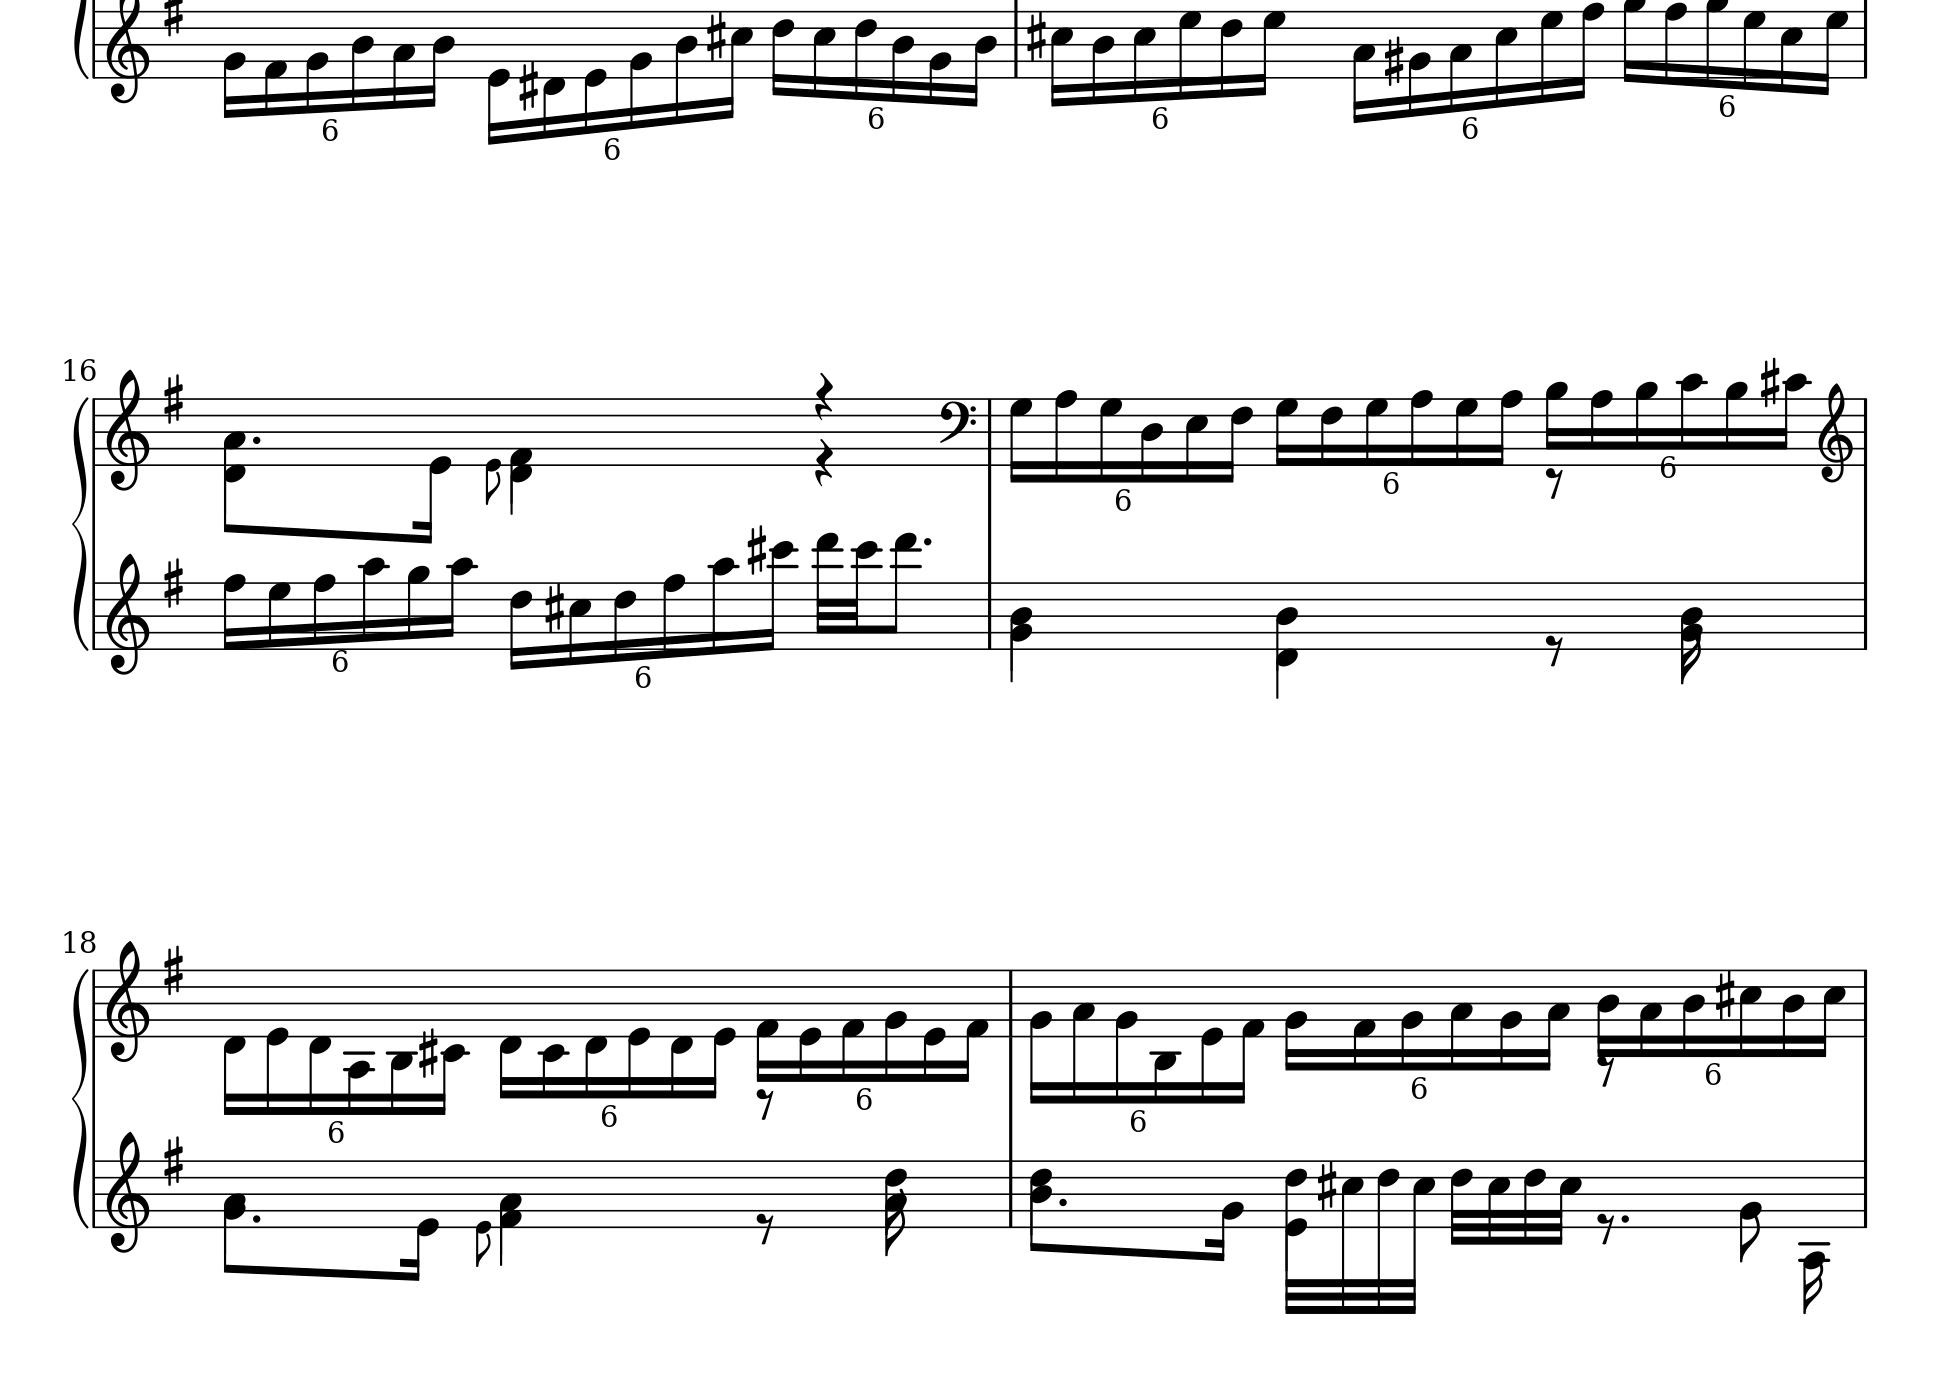1: (61, 355, 76, 382), (61, 927, 75, 954)
16_-1: (304, 967, 333, 1117), (222, 964, 247, 1114), (496, 966, 523, 1102), (667, 966, 694, 1099), (541, 7, 568, 139), (583, 967, 609, 1099)
16_-2: (436, 966, 469, 1117), (538, 966, 568, 1099)
16_-3: (385, 967, 415, 1116), (1152, 967, 1179, 1105)
16_-4: (343, 967, 375, 1120), (1798, 1156, 1828, 1315)
16_0: (415, 394, 451, 541), (400, 1158, 439, 1281), (703, 964, 736, 1099), (262, 966, 289, 1117), (484, 4, 511, 147), (625, 964, 652, 1101), (580, 6, 607, 136), (1200, 966, 1224, 1104), (796, 966, 823, 1083), (921, 966, 946, 1083)
16_1: (1233, 967, 1266, 1102), (958, 967, 990, 1083), (261, 7, 289, 117), (838, 967, 865, 1081), (754, 966, 780, 1084), (1351, 967, 1378, 1072)
16_10: (1776, 372, 1812, 468), (441, 556, 475, 652), (358, 555, 388, 651), (709, 555, 738, 655), (1678, 370, 1707, 468)
16_12: (760, 540, 796, 652)
16_2: (1207, 1158, 1245, 1261), (1113, 967, 1138, 1104), (1029, 966, 1053, 1104), (627, 9, 652, 133), (220, 7, 247, 118), (882, 967, 907, 1084), (1498, 966, 1525, 1072), (1407, 9, 1432, 118), (304, 9, 330, 115), (1284, 967, 1309, 1072), (927, 7, 952, 105)
16_2_4: (1678, 580, 1707, 682)
16_3: (1071, 966, 1096, 1105), (1539, 967, 1572, 1072), (1350, 7, 1377, 124), (1449, 967, 1476, 1072), (1447, 9, 1473, 115), (390, 9, 415, 109), (1638, 967, 1665, 1057)
16_3_6: (882, 1158, 909, 1257)
16_4: (964, 7, 999, 108), (423, 10, 454, 109), (672, 7, 697, 127), (348, 7, 375, 114), (889, 9, 916, 105), (1596, 967, 1623, 1062), (1090, 7, 1116, 106), (1780, 967, 1807, 1057), (1681, 966, 1707, 1057), (1140, 394, 1165, 484)
16_5: (718, 6, 753, 121), (1815, 967, 1848, 1057), (1492, 7, 1518, 109), (1131, 7, 1158, 103), (1050, 7, 1074, 109), (811, 7, 837, 99), (1738, 967, 1764, 1059), (1183, 394, 1209, 484), (1779, 7, 1804, 94), (567, 579, 592, 666)
16_6: (1221, 394, 1254, 484), (769, 7, 796, 97), (852, 7, 877, 100), (1218, 7, 1243, 99), (508, 579, 532, 673), (612, 580, 637, 663), (1320, 396, 1344, 468)
16_7: (1251, 7, 1287, 97), (1815, 7, 1849, 97), (1176, 6, 1203, 102), (1539, 6, 1563, 106), (1098, 394, 1123, 484), (1741, 6, 1767, 93), (1008, 394, 1032, 484), (1273, 394, 1299, 469), (1363, 394, 1389, 468), (1453, 394, 1479, 468), (265, 579, 291, 652)
16_8: (1570, 1, 1605, 100), (1491, 388, 1524, 466), (1662, 1, 1689, 87), (1053, 388, 1077, 484), (661, 571, 685, 660), (220, 571, 246, 652), (1408, 388, 1434, 466), (1588, 388, 1614, 466), (310, 573, 334, 651)
16_9: (405, 562, 430, 652), (1543, 379, 1569, 466), (1633, 379, 1659, 466), (1723, 379, 1749, 466), (1704, 1, 1728, 90)
3: (1719, 93, 1737, 118)
32_0_6: (1284, 1156, 1311, 1315)
32_12: (847, 540, 880, 652)
32_13: (811, 531, 841, 651)
32_2: (1399, 967, 1426, 1072)
32_5: (1408, 1156, 1440, 1312), (1341, 1159, 1366, 1314), (1551, 1159, 1584, 1245), (1486, 1158, 1513, 1246)
32_6: (1375, 1158, 1401, 1314), (1449, 1156, 1476, 1246), (1522, 1158, 1548, 1246)
4_-1_1: (508, 397, 532, 517)
4_-1_4: (1275, 579, 1300, 697)
4_1_3: (498, 1158, 523, 1267)
4_2_4: (1009, 580, 1035, 681)
6: (79, 354, 97, 382), (600, 1102, 619, 1128)
8: (79, 927, 97, 954)
8_-1_3: (222, 397, 247, 534)
8_0: (474, 1158, 493, 1269), (484, 397, 501, 510)
8_13: (883, 529, 919, 652)
8_2: (220, 1155, 247, 1273), (1737, 1158, 1762, 1263)
8_4_6: (1029, 1159, 1054, 1252)
Brace: (70, 967, 90, 1228), (70, 394, 90, 651)
Fclef: (937, 396, 976, 466)
Gclef: (103, 937, 151, 1063), (103, 550, 150, 676), (103, 367, 150, 492), (103, 1129, 150, 1254), (103, 1, 150, 105), (1816, 381, 1854, 484)
Rests4: (811, 438, 835, 489), (813, 369, 835, 421)
Rests8: (753, 1209, 778, 1245), (1543, 631, 1567, 667), (1543, 465, 1567, 499), (1596, 1054, 1620, 1089), (753, 1086, 775, 1120), (1594, 1210, 1617, 1245)
Sharp: (160, 943, 187, 999), (160, 1132, 186, 1188), (160, 372, 186, 426), (160, 555, 184, 610), (1759, 355, 1782, 409), (543, 580, 565, 634), (745, 523, 766, 577), (1714, 967, 1735, 1021), (517, 58, 538, 111), (1383, 34, 1404, 87), (417, 1026, 438, 1078), (1026, 10, 1047, 61), (1317, 1159, 1338, 1210), (706, 10, 726, 63), (160, 1, 186, 40)
Single_barline: (1855, 1, 1875, 79), (1006, 3, 1026, 78), (981, 397, 999, 466), (1002, 969, 1020, 1036), (981, 582, 999, 648), (1002, 1159, 1020, 1225), (1857, 397, 1873, 466), (1857, 969, 1873, 1036), (1857, 583, 1873, 649), (1857, 1161, 1873, 1225), (88, 10, 102, 79), (88, 397, 102, 465), (88, 969, 102, 1036), (88, 1159, 102, 1227), (88, 583, 100, 649)
dot: (1056, 1195, 1071, 1210), (249, 1210, 264, 1225), (249, 432, 264, 445), (921, 534, 934, 549), (1620, 1213, 1632, 1224)
